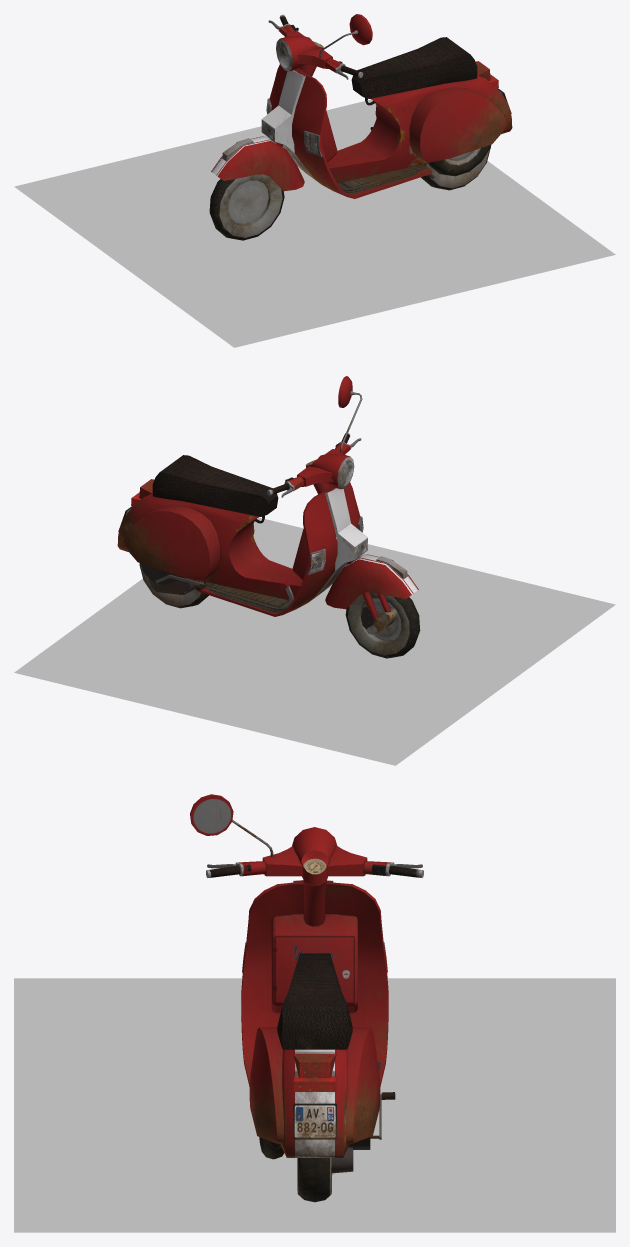
The model's file is Low Poly Vespa.fbx.
3 views of the same model, one above another, from view 1: azimuth 30°, elevation 25°; view 2: azimuth 150°, elevation 25°; view 3: azimuth 270°, elevation 25° (orthographic). The views are drawn at different scales.
Visible parts, largest first — view 1: floor_grid, mainframe; view 2: floor_grid, mainframe; view 3: floor_grid, mainframe.
Part boxes in pixels (x1=…): floor_grid: x1=14, y1=99, x2=615, y2=347; mainframe: x1=209, y1=14, x2=512, y2=240; floor_grid: x1=14, y1=517, x2=615, y2=765; mainframe: x1=117, y1=376, x2=420, y2=658; floor_grid: x1=14, y1=978, x2=615, y2=1232; mainframe: x1=190, y1=794, x2=423, y2=1202.
Bounding box in the file's own units: 200 × 117 × 200.
